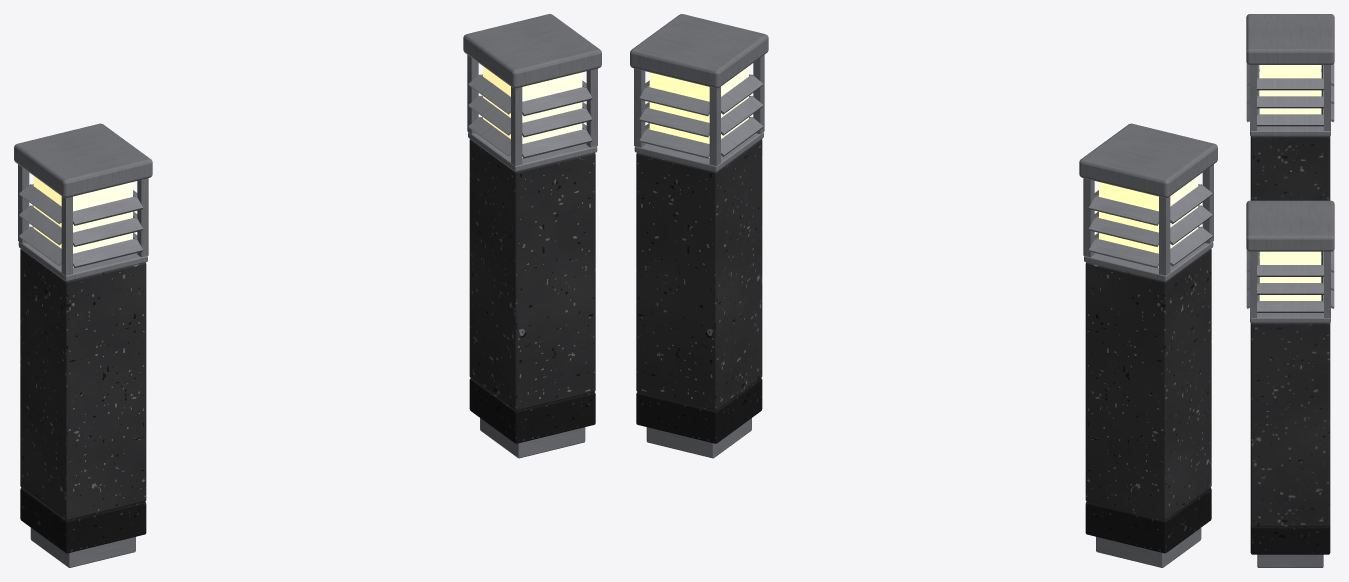
The model's file is bollard_light.glb.
3 renders of one model, left to right at view 1: azimuth 30°, elevation 25°; view 2: azimuth 150°, elevation 25°; view 3: azimuth 270°, elevation 25°, orthographic. The views are drawn at different scales.
Parts seen in each view (by area): view 1: column_r_stone_granite_2, column_l_stone_granite_2, head_l_steel_brushed_0, head_r_steel_brushed_0, head_r_steel_brushed_wet_1, head_l_steel_brushed_wet_1, column_r_stone_granite_grime_1, column_l_stone_granite_grime_1, lens_l_glass_lit_warm_0, lens_r_glass_lit_warm_0, column_l_steel_brushed_0, column_r_steel_brushed_0; view 2: column_r_stone_granite_2, column_l_stone_granite_2, head_l_steel_brushed_0, head_r_steel_brushed_0, head_r_steel_brushed_wet_1, head_l_steel_brushed_wet_1, column_r_stone_granite_grime_1, column_l_stone_granite_grime_1, lens_l_glass_lit_warm_0, lens_r_glass_lit_warm_0, column_l_steel_brushed_0, column_r_steel_brushed_0; view 3: column_l_stone_granite_2, head_r_steel_brushed_0, head_l_steel_brushed_0, column_r_stone_granite_2, head_l_steel_brushed_wet_1, head_r_steel_brushed_wet_1, column_l_stone_granite_grime_1, lens_r_glass_lit_warm_0, lens_l_glass_lit_warm_0, column_l_steel_brushed_0.
Part boxes in pixels (left/top/right/bottom): column_r_stone_granite_2: left=20, top=249, right=146, bottom=520; column_l_stone_granite_2: left=469, top=139, right=595, bottom=410; head_l_steel_brushed_0: left=463, top=36, right=601, bottom=171; head_r_steel_brushed_0: left=14, top=145, right=152, bottom=281; head_r_steel_brushed_wet_1: left=14, top=123, right=151, bottom=182; head_l_steel_brushed_wet_1: left=464, top=14, right=600, bottom=72; column_r_stone_granite_grime_1: left=20, top=488, right=146, bottom=553; column_l_stone_granite_grime_1: left=469, top=378, right=595, bottom=443; lens_l_glass_lit_warm_0: left=483, top=66, right=582, bottom=157; lens_r_glass_lit_warm_0: left=33, top=176, right=132, bottom=267; column_l_steel_brushed_0: left=480, top=418, right=585, bottom=458; column_r_steel_brushed_0: left=30, top=528, right=135, bottom=567; column_r_stone_granite_2: left=1085, top=249, right=1211, bottom=520; column_l_stone_granite_2: left=636, top=139, right=762, bottom=410; head_l_steel_brushed_0: left=630, top=36, right=768, bottom=171; head_r_steel_brushed_0: left=1079, top=145, right=1217, bottom=281; head_r_steel_brushed_wet_1: left=1080, top=123, right=1216, bottom=182; head_l_steel_brushed_wet_1: left=631, top=14, right=767, bottom=72; column_r_stone_granite_grime_1: left=1085, top=488, right=1211, bottom=553; column_l_stone_granite_grime_1: left=636, top=378, right=762, bottom=443; lens_l_glass_lit_warm_0: left=649, top=66, right=748, bottom=157; lens_r_glass_lit_warm_0: left=1099, top=176, right=1198, bottom=267; column_l_steel_brushed_0: left=646, top=418, right=751, bottom=458; column_r_steel_brushed_0: left=1096, top=528, right=1201, bottom=567; column_l_stone_granite_2: left=1250, top=323, right=1330, bottom=526; head_r_steel_brushed_0: left=1246, top=17, right=1334, bottom=136; head_l_steel_brushed_0: left=1246, top=204, right=1334, bottom=322; column_r_stone_granite_2: left=1250, top=136, right=1330, bottom=282; head_l_steel_brushed_wet_1: left=1246, top=200, right=1334, bottom=238; head_r_steel_brushed_wet_1: left=1246, top=14, right=1334, bottom=51; column_l_stone_granite_grime_1: left=1250, top=525, right=1330, bottom=554; lens_r_glass_lit_warm_0: left=1259, top=65, right=1321, bottom=114; lens_l_glass_lit_warm_0: left=1259, top=251, right=1321, bottom=300; column_l_steel_brushed_0: left=1257, top=554, right=1323, bottom=567.
Size of what is drawn, in the model's own units: 1.2 by 0.84 by 0.2.
Materials: 10 (7 with a texture image).
